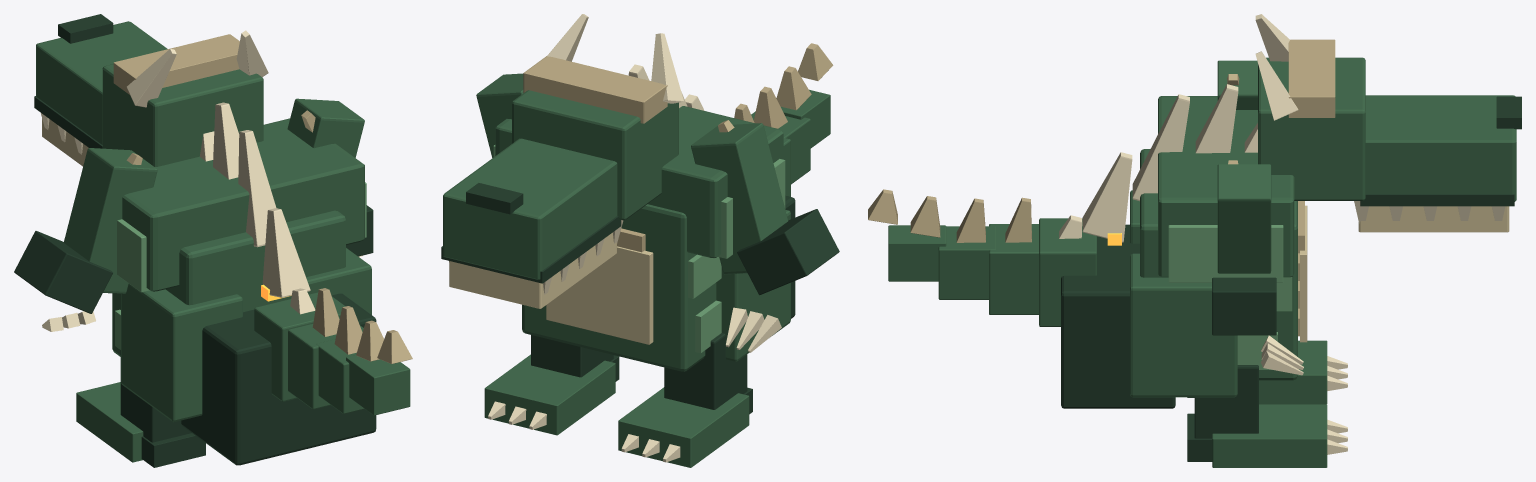
The model's file is crocodon.glb.
The picture shows the model from 3 angles, left to right: view 1: azimuth 30°, elevation 25°; view 2: azimuth 150°, elevation 25°; view 3: azimuth 270°, elevation 25°; orthographic projection. The views are drawn at different scales.
Parts seen in each view (by area): view 1: body, head, leg.FR, tail, arm.R, arm.L, leg.FL; view 2: head, body, leg.FR, arm.R, leg.FL, tail, arm.L; view 3: body, head, leg.FL, tail, arm.L, leg.FR, arm.R.
Part boxes in pixels (left/top/right/bottom): body: left=112, top=102, right=376, bottom=465; head: left=34, top=14, right=268, bottom=166; leg.FR: left=76, top=284, right=242, bottom=467; tail: left=254, top=288, right=412, bottom=415; arm.R: left=14, top=148, right=157, bottom=331; arm.L: left=287, top=98, right=373, bottom=257; leg.FL: left=306, top=248, right=371, bottom=314; head: left=441, top=14, right=683, bottom=308; body: left=493, top=64, right=795, bottom=371; leg.FR: left=618, top=209, right=790, bottom=467; arm.R: left=691, top=123, right=839, bottom=352; leg.FL: left=484, top=335, right=619, bottom=435; tail: left=734, top=43, right=833, bottom=196; arm.L: left=476, top=73, right=523, bottom=157; body: left=1059, top=74, right=1307, bottom=408; head: left=1255, top=14, right=1521, bottom=232; leg.FL: left=1130, top=253, right=1347, bottom=467; tail: left=868, top=189, right=1096, bottom=326; arm.L: left=1212, top=164, right=1303, bottom=375; leg.FR: left=1130, top=190, right=1347, bottom=404; arm.R: left=1217, top=60, right=1257, bottom=109.
Size of the model in its own units: 0.9408 by 1 by 1.53.
